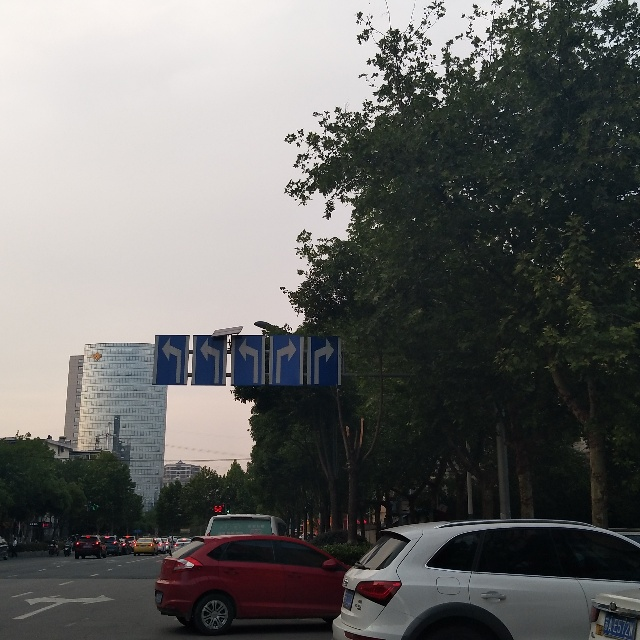left: (233, 336, 265, 385), (156, 335, 186, 385), (198, 333, 224, 386)
right: (309, 332, 337, 389), (271, 333, 301, 385)
